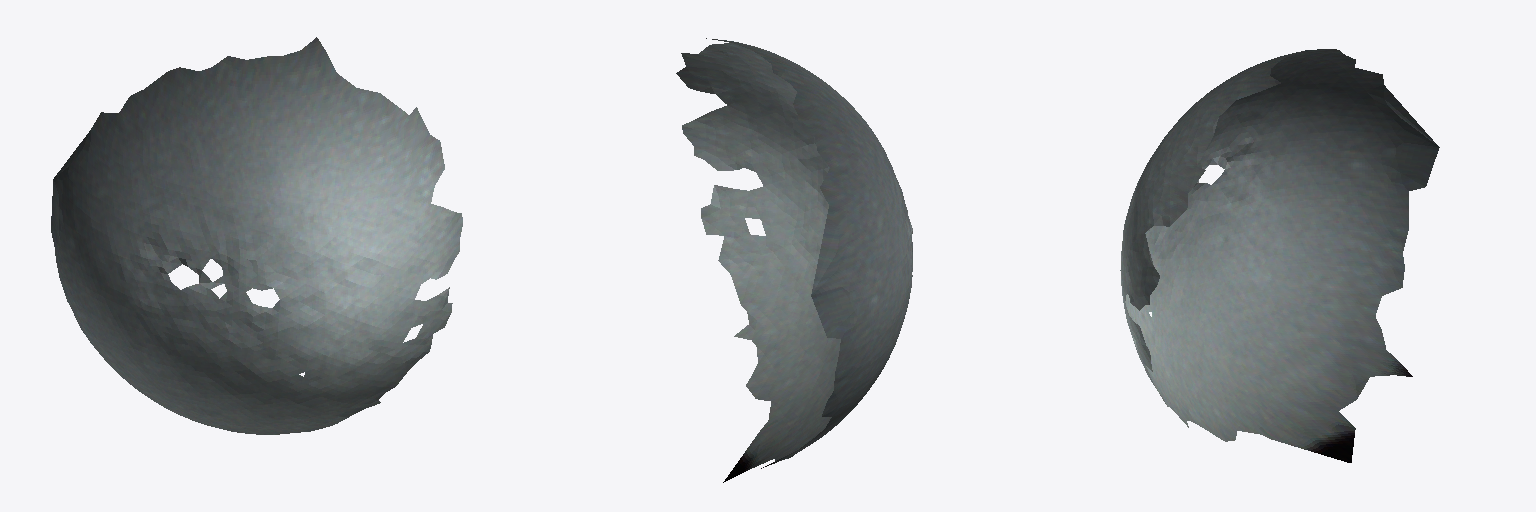
The picture shows the model from 3 angles: view 1: azimuth 30°, elevation 25°; view 2: azimuth 150°, elevation 25°; view 3: azimuth 270°, elevation 25°; orthographic projection.
Bounding box in the file's own units: 59.93 × 79.47 × 56.56.
1 materials, 1 textured.